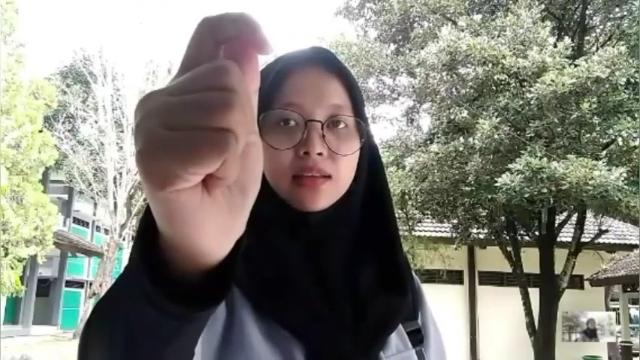T: (130, 12, 266, 266)
